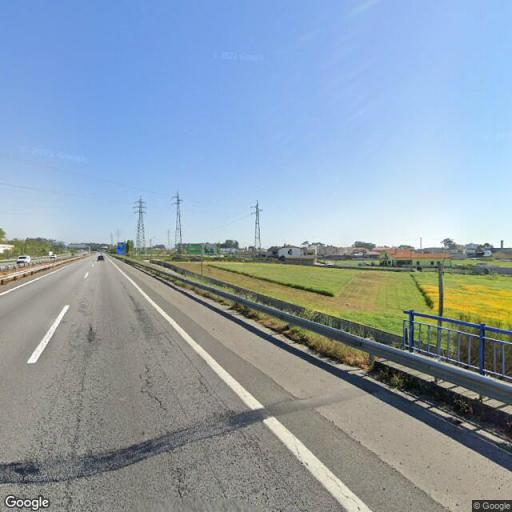ss_3: (132, 194, 149, 248)
ss_4: (250, 198, 266, 255), (172, 188, 184, 254)
